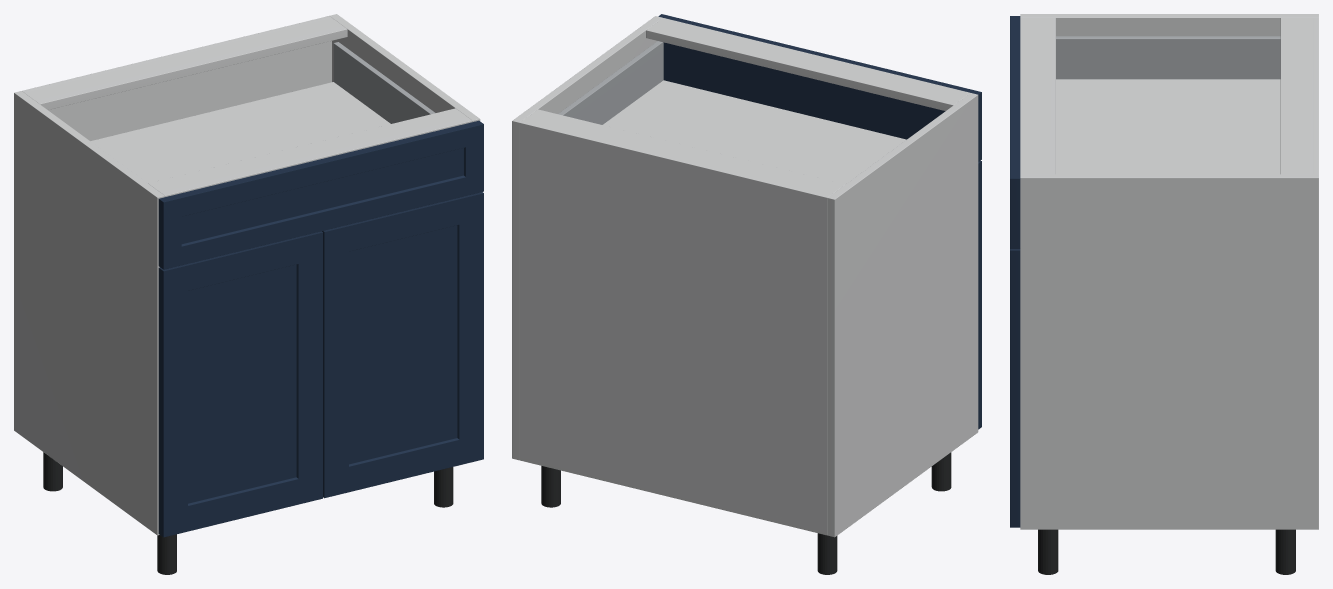
The model's file is oppein-pb-bss-b30.glb.
3 views of the same model, side by side, from view 1: azimuth 30°, elevation 25°; view 2: azimuth 150°, elevation 25°; view 3: azimuth 270°, elevation 25° (orthographic). The views are drawn at different scales.
Visible parts, largest first — view 1: Cabinet side, Door, Door.001, Drawer front, Drawer floor, Cabinet back, Top support rail, Top support rail.001, Drawer side.001, Cabinet side.001, Adjustable foot.001, Adjustable foot.003 (+1 smaller); view 2: Cabinet back, Cabinet side, Drawer floor, Drawer front, Top support rail.001, Cabinet side.001, Top support rail, Drawer side.001, Door, Adjustable foot, Adjustable foot.002, Cabinet bottom (+1 smaller); view 3: Cabinet side.001, Drawer floor, Drawer side, Top support rail.001, Cabinet side, Top support rail, Door.001, Drawer front, Adjustable foot.003, Adjustable foot.002, Cabinet back.
Boxes of the visible parts, bbox=[...] form: Cabinet side: bbox=[14, 91, 164, 535]; Door: bbox=[158, 231, 322, 537]; Door.001: bbox=[322, 192, 483, 498]; Drawer front: bbox=[158, 120, 483, 269]; Drawer floor: bbox=[90, 82, 390, 183]; Cabinet back: bbox=[22, 16, 331, 140]; Top support rail: bbox=[23, 17, 347, 109]; Top support rail.001: bbox=[148, 108, 472, 196]; Drawer side.001: bbox=[333, 42, 435, 123]; Cabinet side.001: bbox=[329, 14, 480, 121]; Adjustable foot.001: bbox=[157, 534, 176, 574]; Adjustable foot.003: bbox=[434, 467, 453, 507]; Cabinet back: bbox=[519, 120, 829, 534]; Cabinet side: bbox=[827, 93, 978, 537]; Drawer floor: bbox=[603, 80, 906, 184]; Drawer front: bbox=[658, 14, 981, 161]; Top support rail.001: bbox=[646, 18, 969, 110]; Cabinet side.001: bbox=[512, 16, 662, 460]; Top support rail: bbox=[523, 109, 844, 195]; Drawer side.001: bbox=[558, 41, 663, 124]; Door: bbox=[978, 160, 981, 429]; Adjustable foot: bbox=[817, 533, 837, 574]; Adjustable foot.002: bbox=[541, 466, 560, 507]; Cabinet bottom: bbox=[519, 456, 826, 535]; Cabinet side.001: bbox=[1020, 174, 1318, 529]; Drawer floor: bbox=[1056, 79, 1280, 174]; Drawer side: bbox=[1056, 36, 1280, 79]; Top support rail.001: bbox=[1020, 18, 1055, 174]; Cabinet side: bbox=[1020, 14, 1318, 36]; Top support rail: bbox=[1280, 18, 1315, 174]; Door.001: bbox=[1010, 249, 1020, 527]; Drawer front: bbox=[1010, 16, 1020, 248]; Adjustable foot.003: bbox=[1038, 529, 1058, 574]; Adjustable foot.002: bbox=[1275, 529, 1295, 574]; Cabinet back: bbox=[1313, 18, 1318, 174].
Bounding box in the file's own units: 0.762 × 0.8763 × 0.6064.
